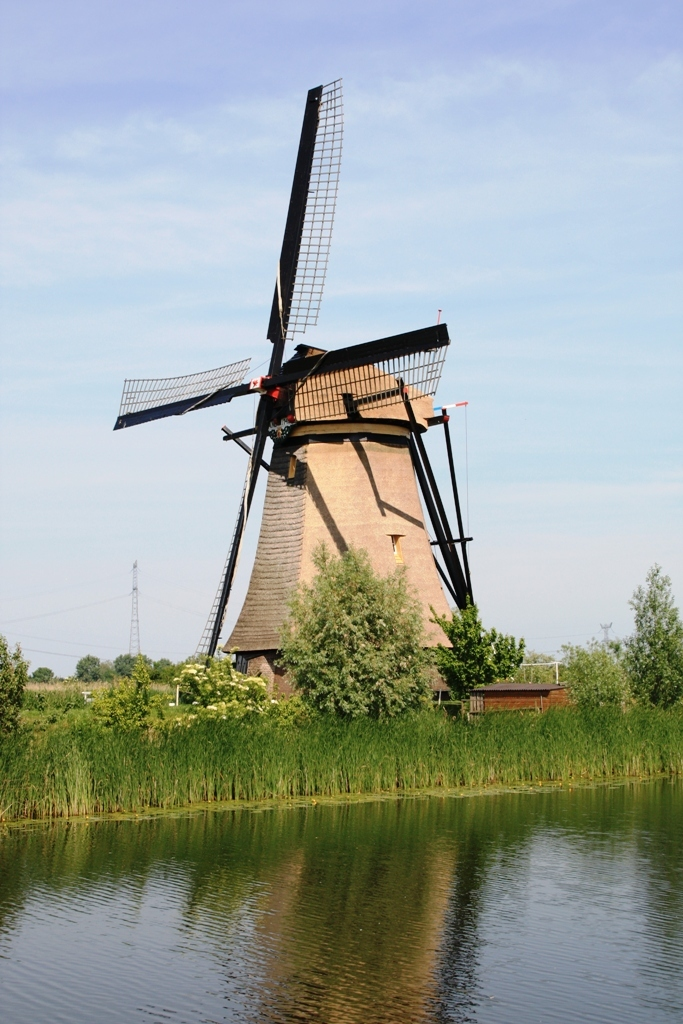Tree: (442, 551, 682, 711), (263, 526, 460, 696), (0, 634, 271, 732)
